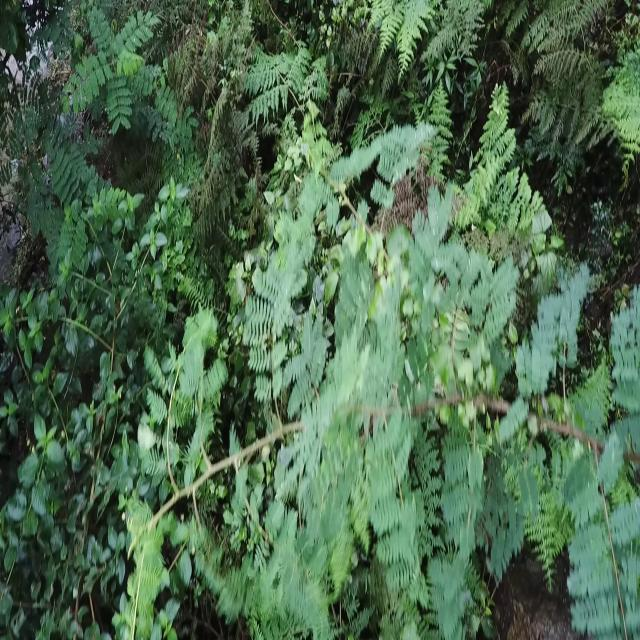Mysore-Thorn-Weed: (164, 237, 640, 640), (0, 57, 115, 277), (65, 4, 165, 132)
